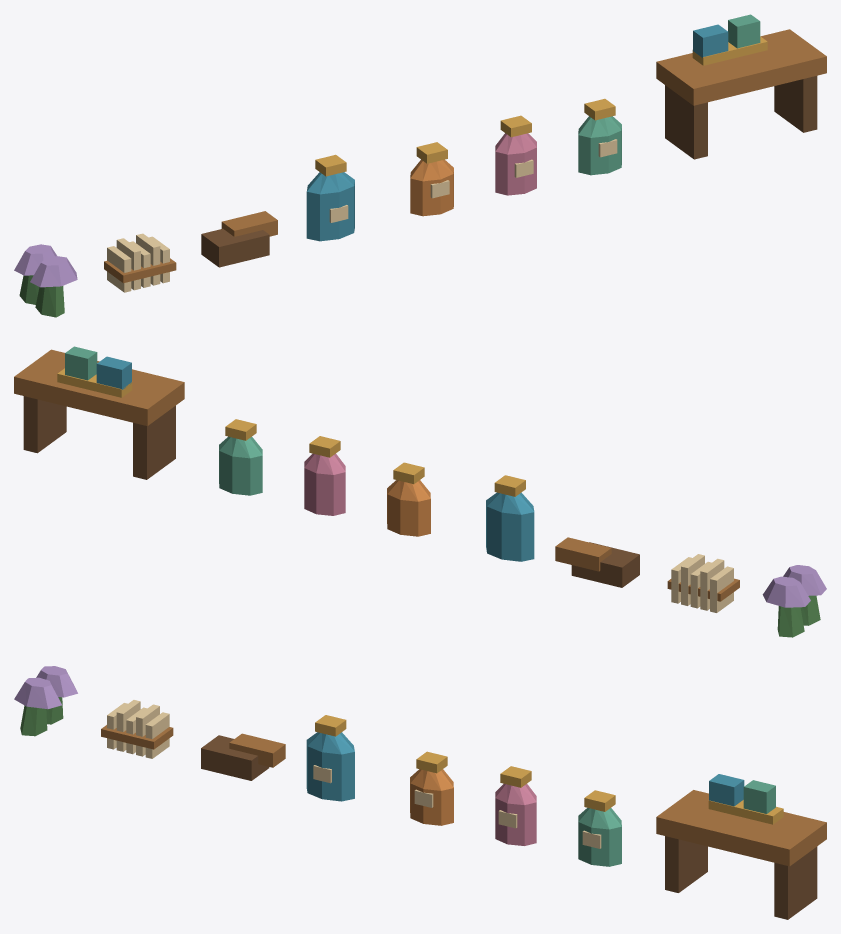
The model's file is fon-emilie-scent-model.obj.
3 views of the same model, one above another, from view 1: azimuth 30°, elevation 25°; view 2: azimuth 150°, elevation 25°; view 3: azimuth 330°, elevation 25° (orthographic).
Parts seen in each view (by area): view 1: ScentAtelier; view 2: ScentAtelier; view 3: ScentAtelier.
Part boxes in pixels (x1=…): ScentAtelier: x1=14, y1=14, x2=826, y2=317; ScentAtelier: x1=14, y1=346, x2=826, y2=637; ScentAtelier: x1=14, y1=666, x2=826, y2=919.
Size of the model in its own units: 6.81 by 0.87 by 0.56.
